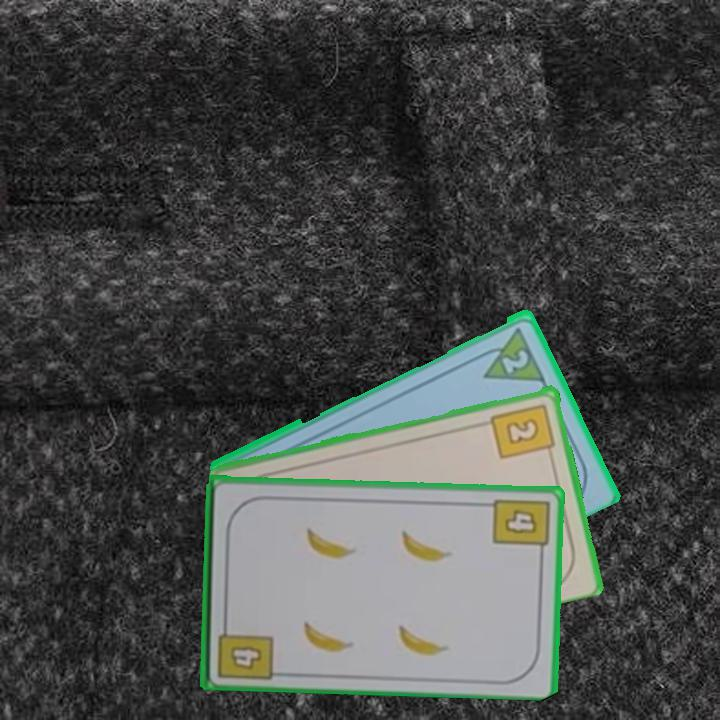2b: (488, 399, 558, 462)
2p: (498, 345, 532, 376)
4b: (213, 615, 275, 682), (489, 495, 552, 559)
